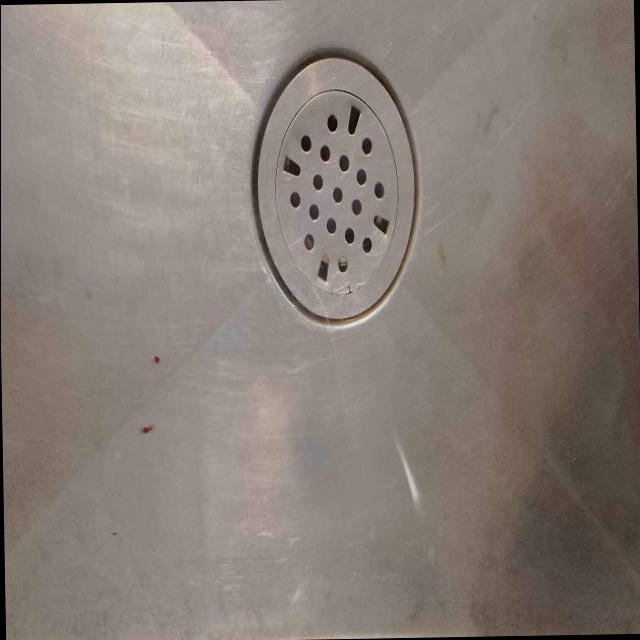General: (251, 54, 422, 332)
Pathological: (3, 3, 638, 638)
